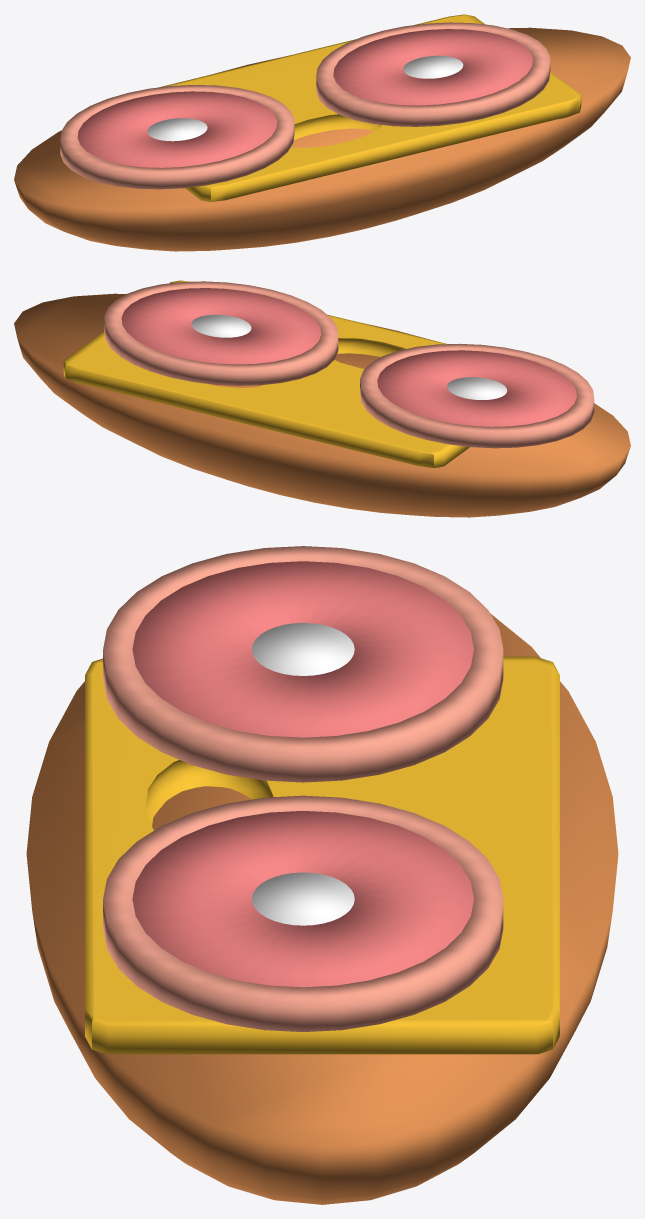
The model's file is kanapka_szynka_ser.gltf.
The picture shows the model from 3 angles, top to bottom: view 1: azimuth 30°, elevation 25°; view 2: azimuth 150°, elevation 25°; view 3: azimuth 270°, elevation 25°; orthographic projection. The views are drawn at different scales.
Parts seen in each view (by area): view 1: Sphere, Sphere.003, Sphere.004, Cube.002; view 2: Sphere, Sphere.003, Sphere.004, Cube.002; view 3: Sphere, Sphere.004, Sphere.003, Cube.002.
Part boxes in pixels (<box>): Sphere: <box>14,27,630,251</box>; Sphere.003: <box>316,22,550,126</box>; Sphere.004: <box>60,85,294,189</box>; Cube.002: <box>158,14,581,201</box>; Sphere: <box>14,293,630,517</box>; Sphere.003: <box>104,281,338,385</box>; Sphere.004: <box>360,343,594,448</box>; Cube.002: <box>63,280,469,467</box>; Sphere: <box>26,613,618,1204</box>; Sphere.004: <box>103,546,503,782</box>; Sphere.003: <box>103,795,503,1031</box>; Cube.002: <box>85,656,559,1054</box>.
Size of the model in its own units: 0.2883 by 0.0579 by 0.1233.
Materials: 4 (4 with a texture image).
